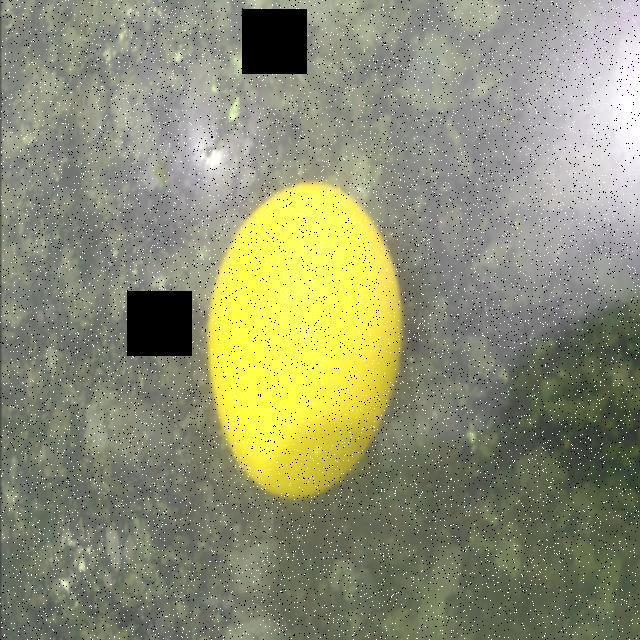egg: (198, 169, 405, 507)
